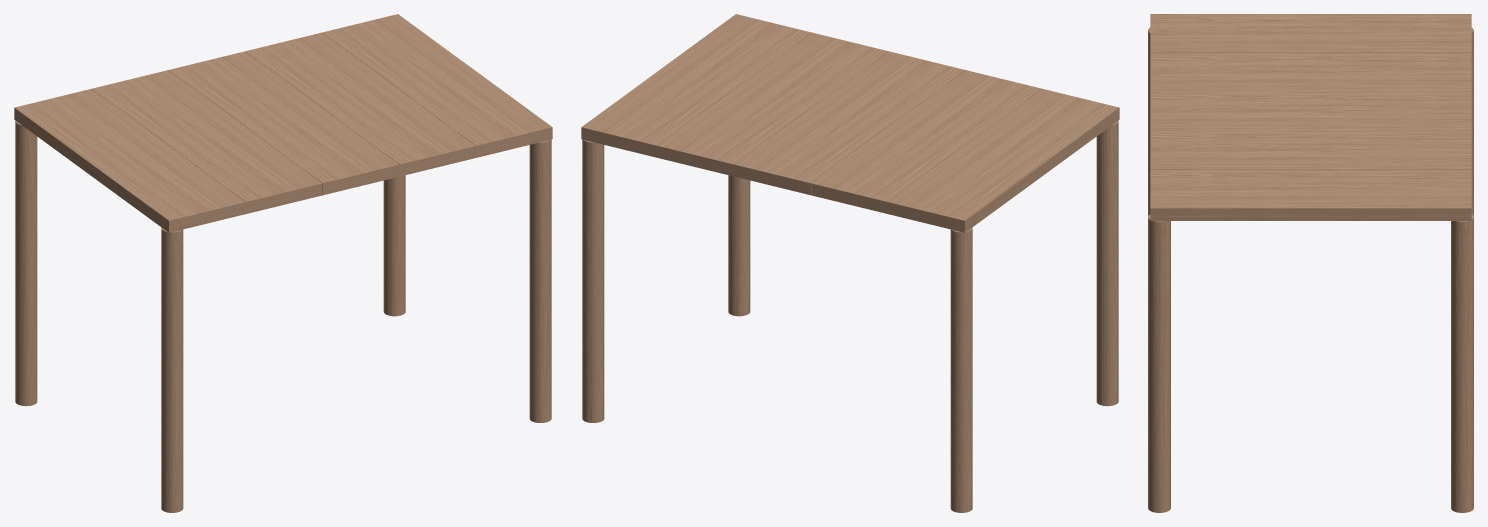
Rendered from mesa_v1.glb.
The picture shows the model from 3 angles, left to right: view 1: azimuth 30°, elevation 25°; view 2: azimuth 150°, elevation 25°; view 3: azimuth 270°, elevation 25°; orthographic projection. The views are drawn at different scales.
Parts seen in each view (by area): view 1: Tabla_1, Tabla_2, Tabla_3, Tabla_5, Tabla_4, Pata_1, Pata_3, Pata_2, Pata_4; view 2: Tabla_1, Tabla_2, Tabla_3, Tabla_5, Tabla_4, Pata_2, Pata_4, Pata_1, Pata_3; view 3: Tabla_5, Tabla_3, Tabla_4, Tabla_1, Tabla_2, Pata_3, Pata_4, Pata_1, Pata_2.
Boxes of the visible parts, bbox=[...] form: Tabla_1: bbox=[14, 89, 245, 232]; Tabla_2: bbox=[91, 70, 322, 213]; Tabla_3: bbox=[168, 51, 399, 195]; Tabla_5: bbox=[321, 14, 552, 157]; Tabla_4: bbox=[245, 33, 475, 176]; Pata_1: bbox=[161, 227, 183, 512]; Pata_3: bbox=[529, 139, 551, 422]; Pata_2: bbox=[15, 120, 37, 406]; Pata_4: bbox=[383, 175, 405, 316]; Tabla_1: bbox=[888, 89, 1119, 232]; Tabla_2: bbox=[811, 70, 1042, 213]; Tabla_3: bbox=[734, 51, 965, 195]; Tabla_5: bbox=[581, 14, 812, 157]; Tabla_4: bbox=[658, 33, 888, 176]; Pata_2: bbox=[950, 227, 972, 512]; Pata_4: bbox=[582, 139, 604, 422]; Pata_1: bbox=[1096, 120, 1118, 406]; Pata_3: bbox=[728, 175, 750, 316]; Tabla_5: bbox=[1150, 169, 1471, 220]; Tabla_3: bbox=[1150, 91, 1471, 130]; Tabla_4: bbox=[1150, 130, 1471, 169]; Tabla_1: bbox=[1150, 14, 1471, 52]; Tabla_2: bbox=[1150, 53, 1471, 91]; Pata_3: bbox=[1148, 214, 1170, 512]; Pata_4: bbox=[1451, 214, 1473, 512]; Pata_1: bbox=[1148, 28, 1150, 215]; Pata_2: bbox=[1471, 28, 1473, 215].
Size of the model in its own units: 1.01 by 0.73 by 0.71.
Materials: 2 (2 with a texture image).
